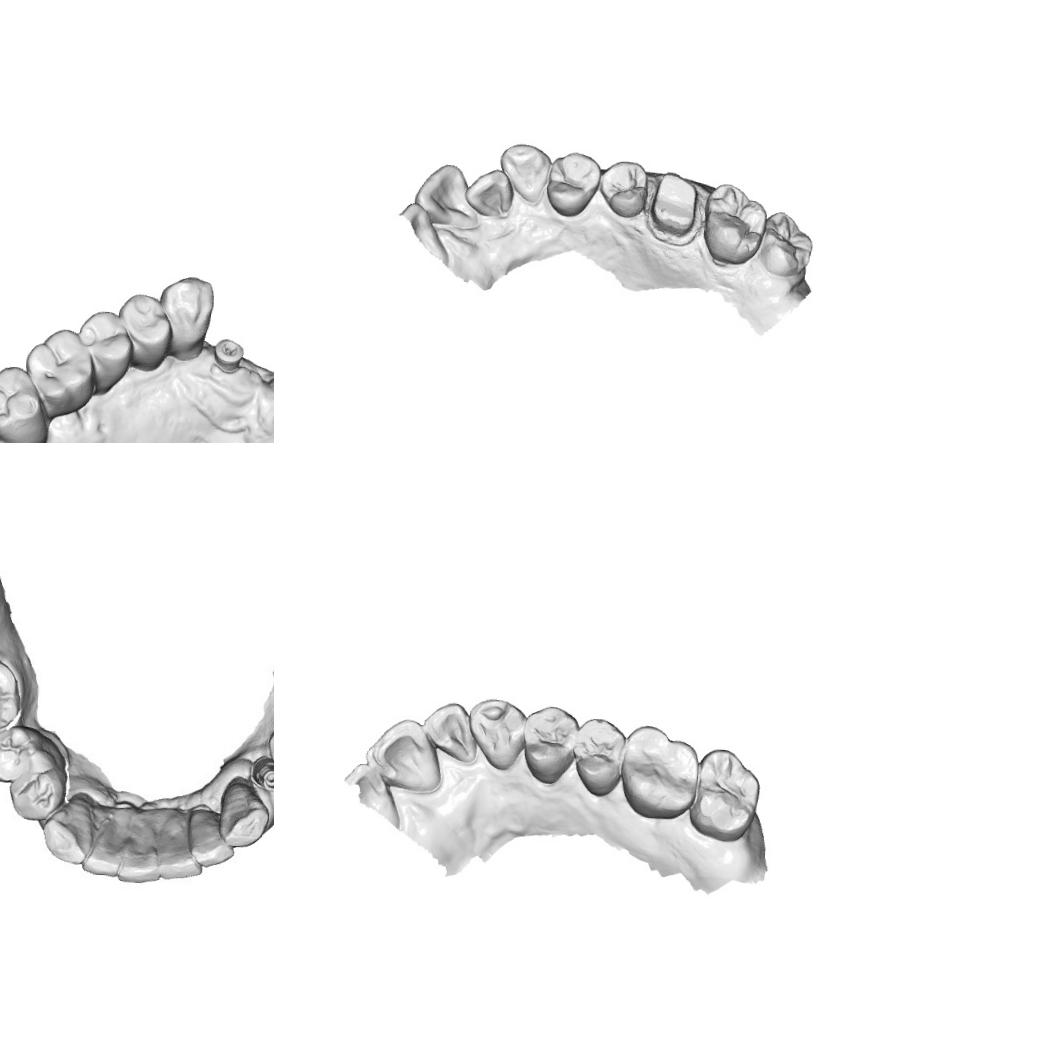canine: (156, 272, 216, 356), (465, 695, 527, 770), (41, 788, 102, 864), (216, 777, 274, 851), (496, 138, 553, 205)
crown: (646, 166, 704, 245)
implant: (245, 750, 274, 797)
implant_plus: (210, 334, 246, 375)
incisor: (362, 715, 446, 796), (412, 161, 481, 230), (78, 796, 132, 880), (420, 698, 478, 768), (188, 802, 238, 873), (156, 806, 200, 886), (120, 812, 164, 885), (463, 166, 516, 220)
molar: (618, 722, 700, 824), (688, 745, 764, 844), (22, 325, 97, 413), (698, 180, 768, 269), (0, 362, 52, 443), (758, 207, 816, 279), (0, 653, 28, 741)
premolar: (520, 702, 580, 788), (75, 307, 136, 390), (115, 291, 174, 373), (572, 716, 626, 799), (543, 149, 602, 218), (8, 761, 70, 826), (597, 158, 649, 219), (0, 721, 40, 786)
